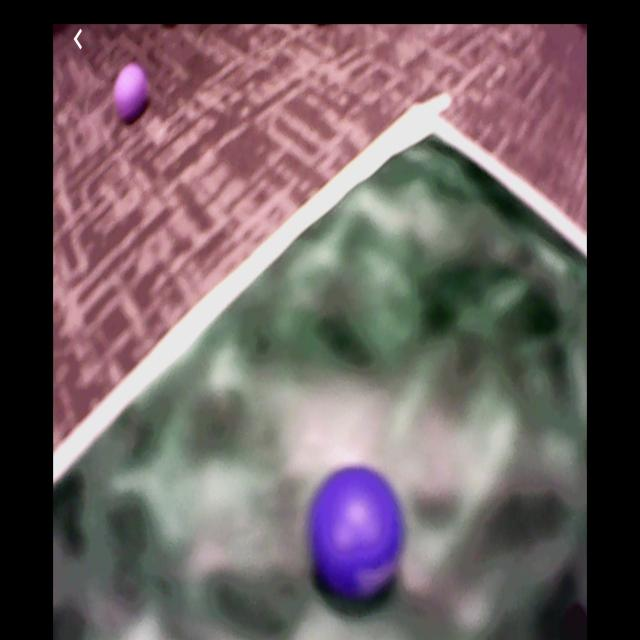ball: (311, 464, 402, 601), (116, 66, 148, 122)
